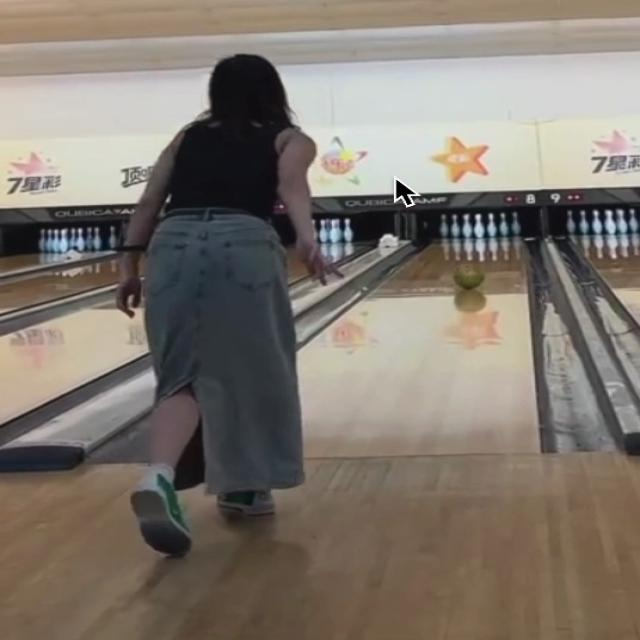alley: (300, 238, 539, 460)
balls: (453, 268, 484, 290)
bottle: (441, 211, 518, 239)
